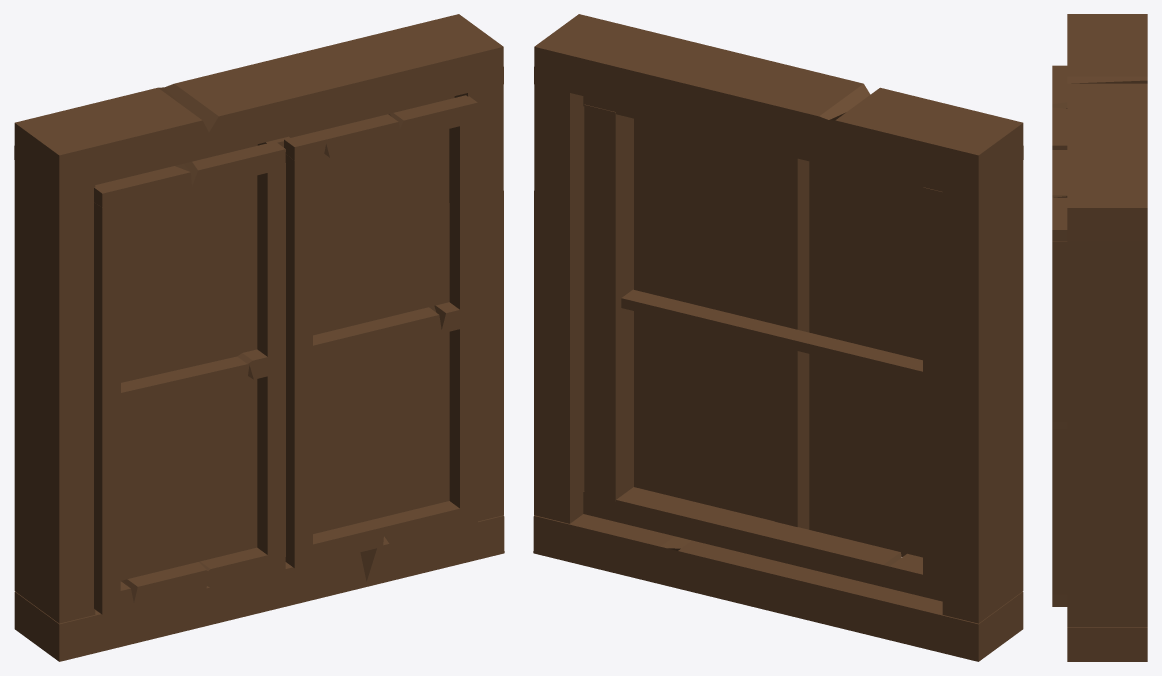
The model's file is janela_fechada.fbx.
3 renders of one model, left to right at view 1: azimuth 30°, elevation 25°; view 2: azimuth 150°, elevation 25°; view 3: azimuth 270°, elevation 25°, orthographic. The views are drawn at different scales.
Visible parts, largest first — view 1: janela fechada; view 2: janela fechada; view 3: janela fechada.
Boxes of the visible parts, <box> form: janela fechada: <box>14,14,504,661</box>; janela fechada: <box>533,14,1023,661</box>; janela fechada: <box>1052,14,1147,661</box>.
Bounding box in the file's own units: 80.48 × 87.53 × 16.63.
